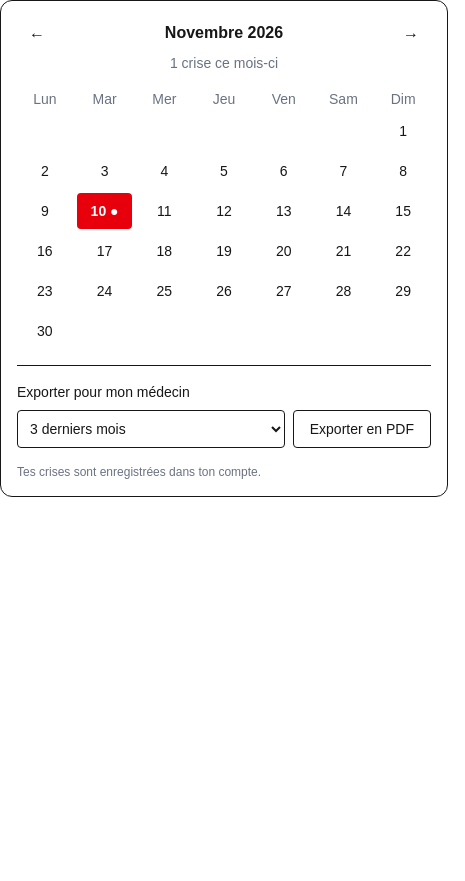
modification d'une crise › pré-remplit le formulaire avec les valeurs de la crise
This screenshot has width=465, height=881.
Click the button "10 ●".
click(105, 211)  # box [77,193,132,229]
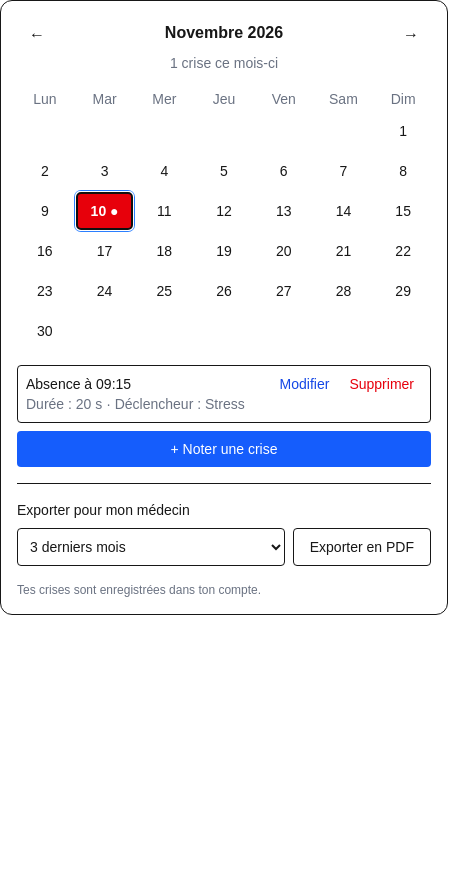
Click the button with aria-label "Modifier cette crise".
click(304, 384)  # box [272,374,337,394]
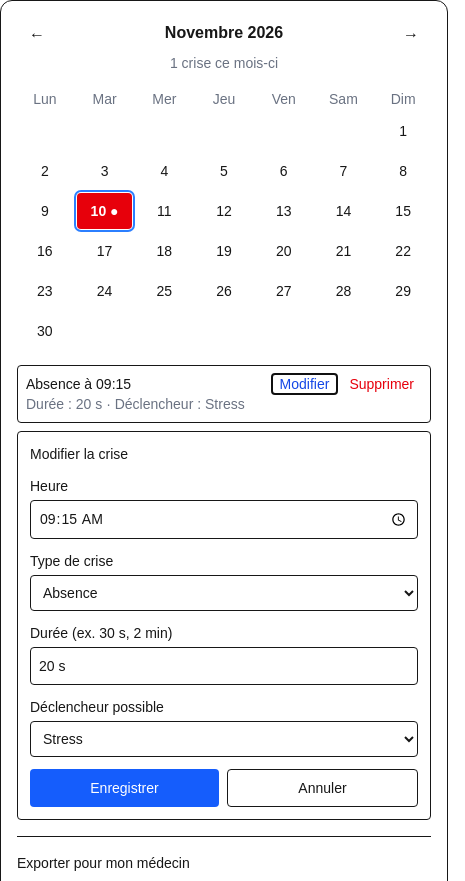
Expected: the text "Modifier la crise" is shown, [30,446,128,462]
Expected: the time field labelled "Heure" holds "09:15", [30,500,418,539]
Expected: the dropdown labelled "Type de crise" shows "Absence", [30,575,418,611]
